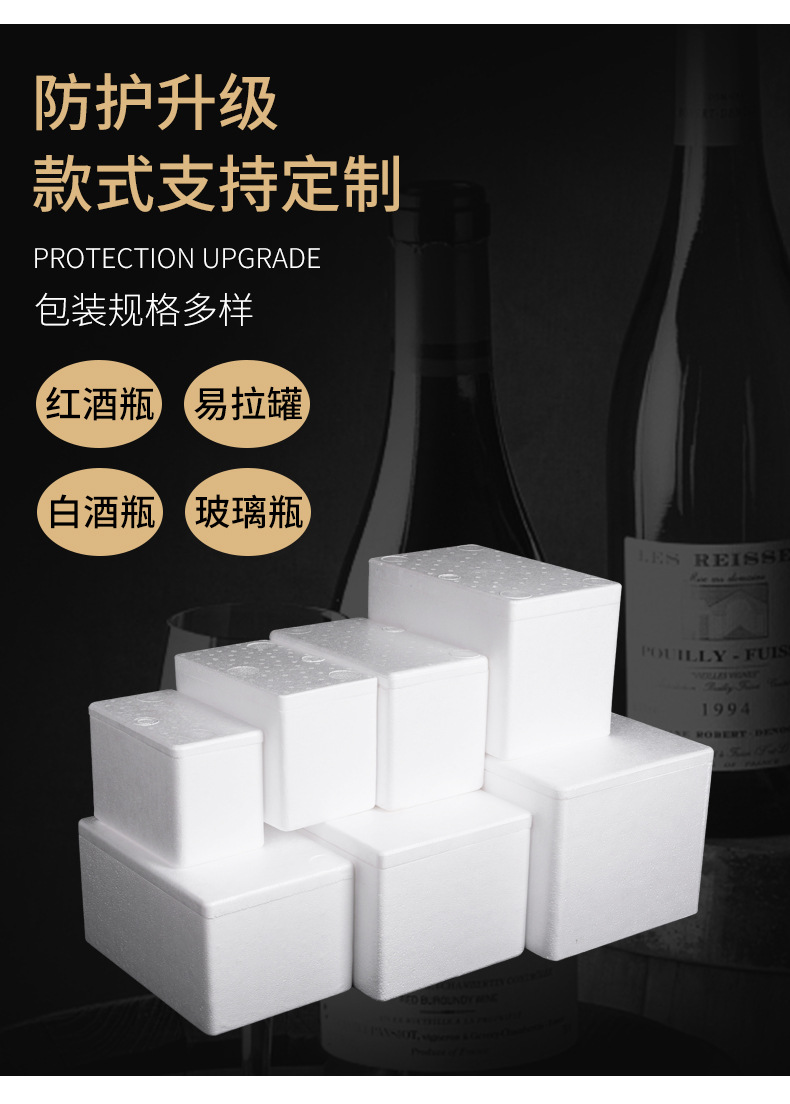Boxes: (79, 546, 711, 1034)
